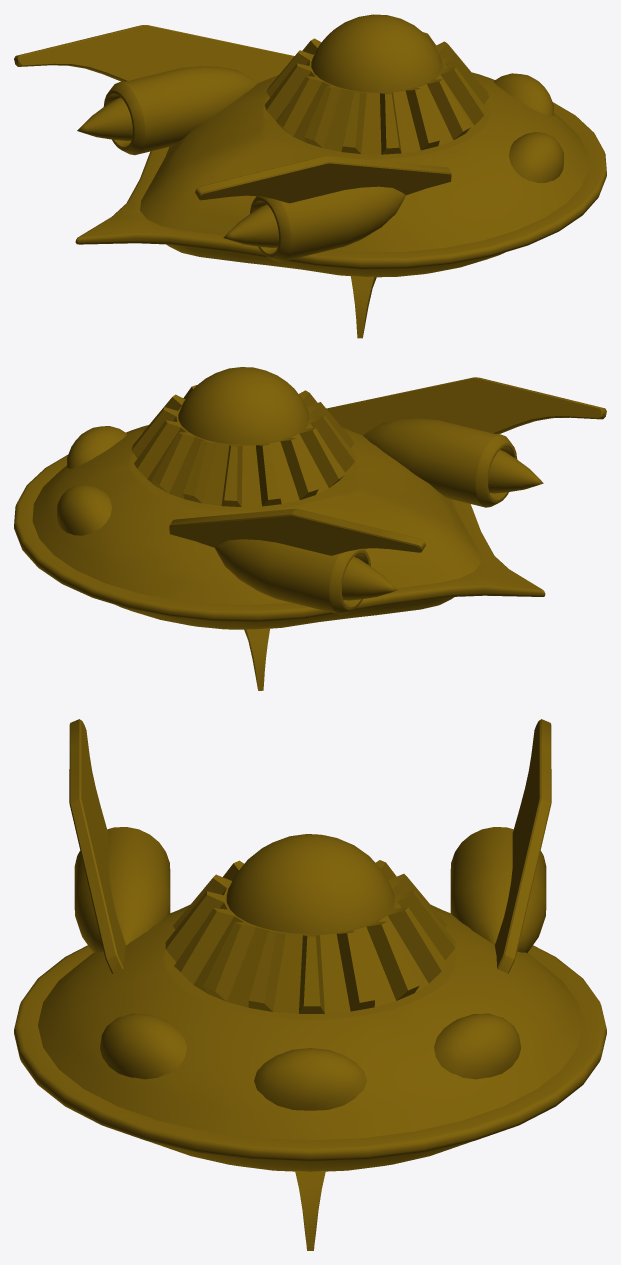
File: UFO.FBX
The picture shows the model from 3 angles, top to bottom: view 1: azimuth 30°, elevation 25°; view 2: azimuth 150°, elevation 25°; view 3: azimuth 270°, elevation 25°; orthographic projection. The views are drawn at different scales.
Visible parts, largest first — view 1: TwinStickUFO; view 2: TwinStickUFO; view 3: TwinStickUFO.
Part boxes in pixels (left/top/right/bottom): TwinStickUFO: left=14, top=14, right=606, bottom=338; TwinStickUFO: left=14, top=367, right=606, bottom=690; TwinStickUFO: left=14, top=719, right=606, bottom=1250.
Size of the model in its own units: 125 by 56.54 by 100.
